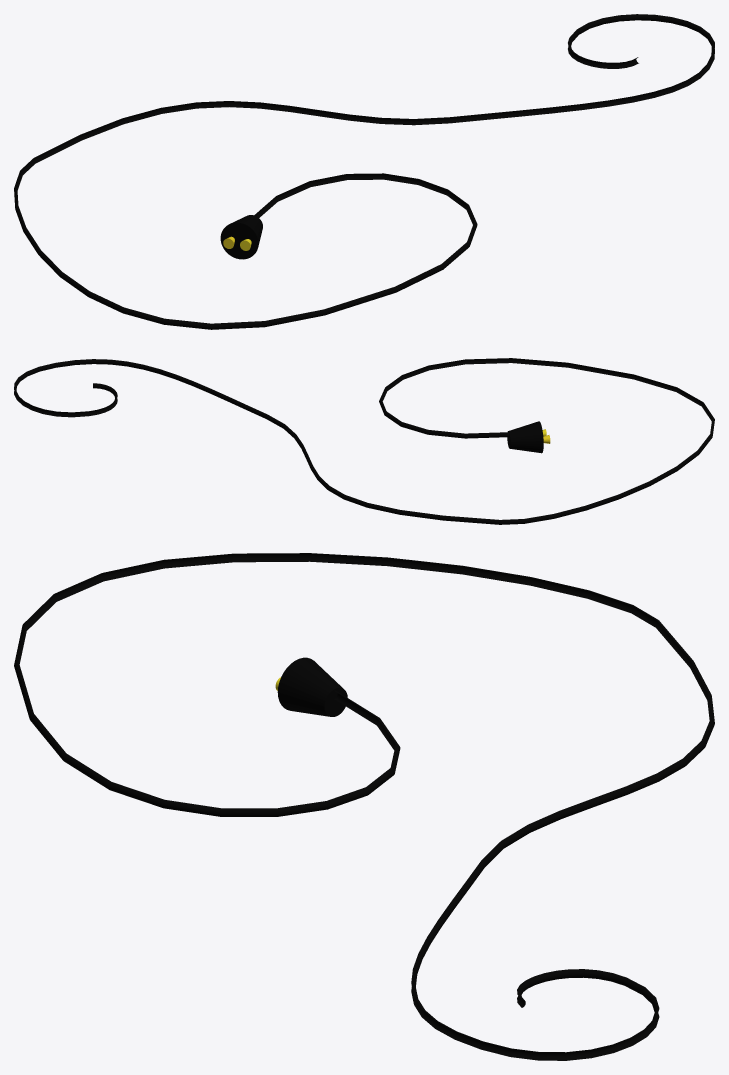
The model's file is kabel.fbx.
3 renders of one model, top to bottom at view 1: azimuth 30°, elevation 25°; view 2: azimuth 150°, elevation 25°; view 3: azimuth 270°, elevation 25°, orthographic. The views are drawn at different scales.
Visible parts, largest first — view 1: CurlyCurve, Cylinder; view 2: CurlyCurve, Cylinder; view 3: CurlyCurve, Cylinder.
Part boxes in pixels (box(x1,y1,x2,y2)): CurlyCurve: box(14, 14, 714, 329); Cylinder: box(220, 215, 262, 259); CurlyCurve: box(14, 358, 714, 524); Cylinder: box(507, 421, 543, 453); CurlyCurve: box(14, 553, 714, 1060); Cylinder: box(277, 657, 347, 716).
Bounding box in the file's own units: 258 × 12.28 × 153.
